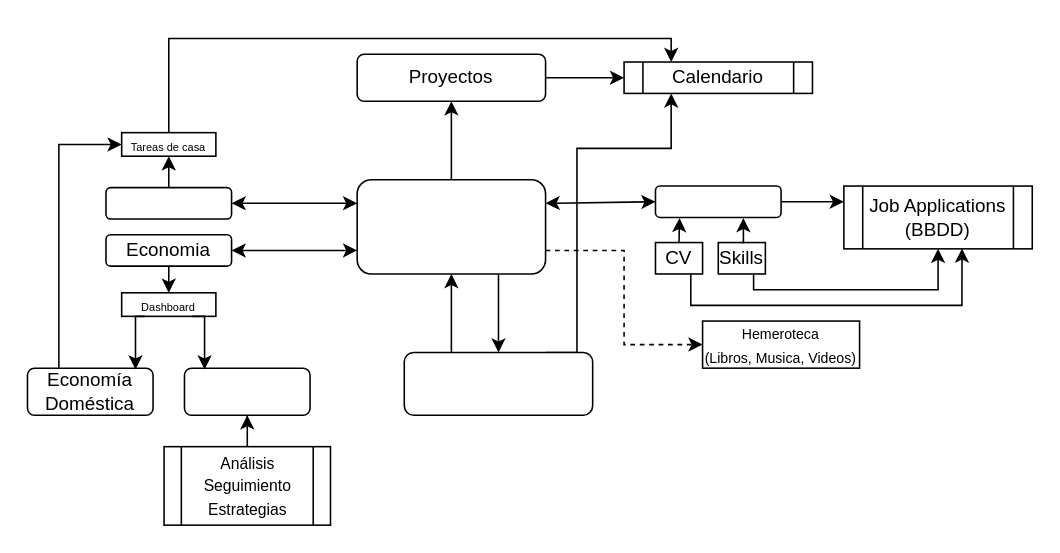
The diagram is 1060 pixels wide and 553 high, and some of its shapes have lost their labels. Here are the shapes that lost their labels. From the top down, the centre of each, then its label:
At [168,202]: "Doméstico".
At [717,200]: "Profesional".
At [451,226]: "DASHBOARD General".
At [246,391]: "Inversiones y patrimonio".
At [498,383]: "Tareas (To-DOs)".
